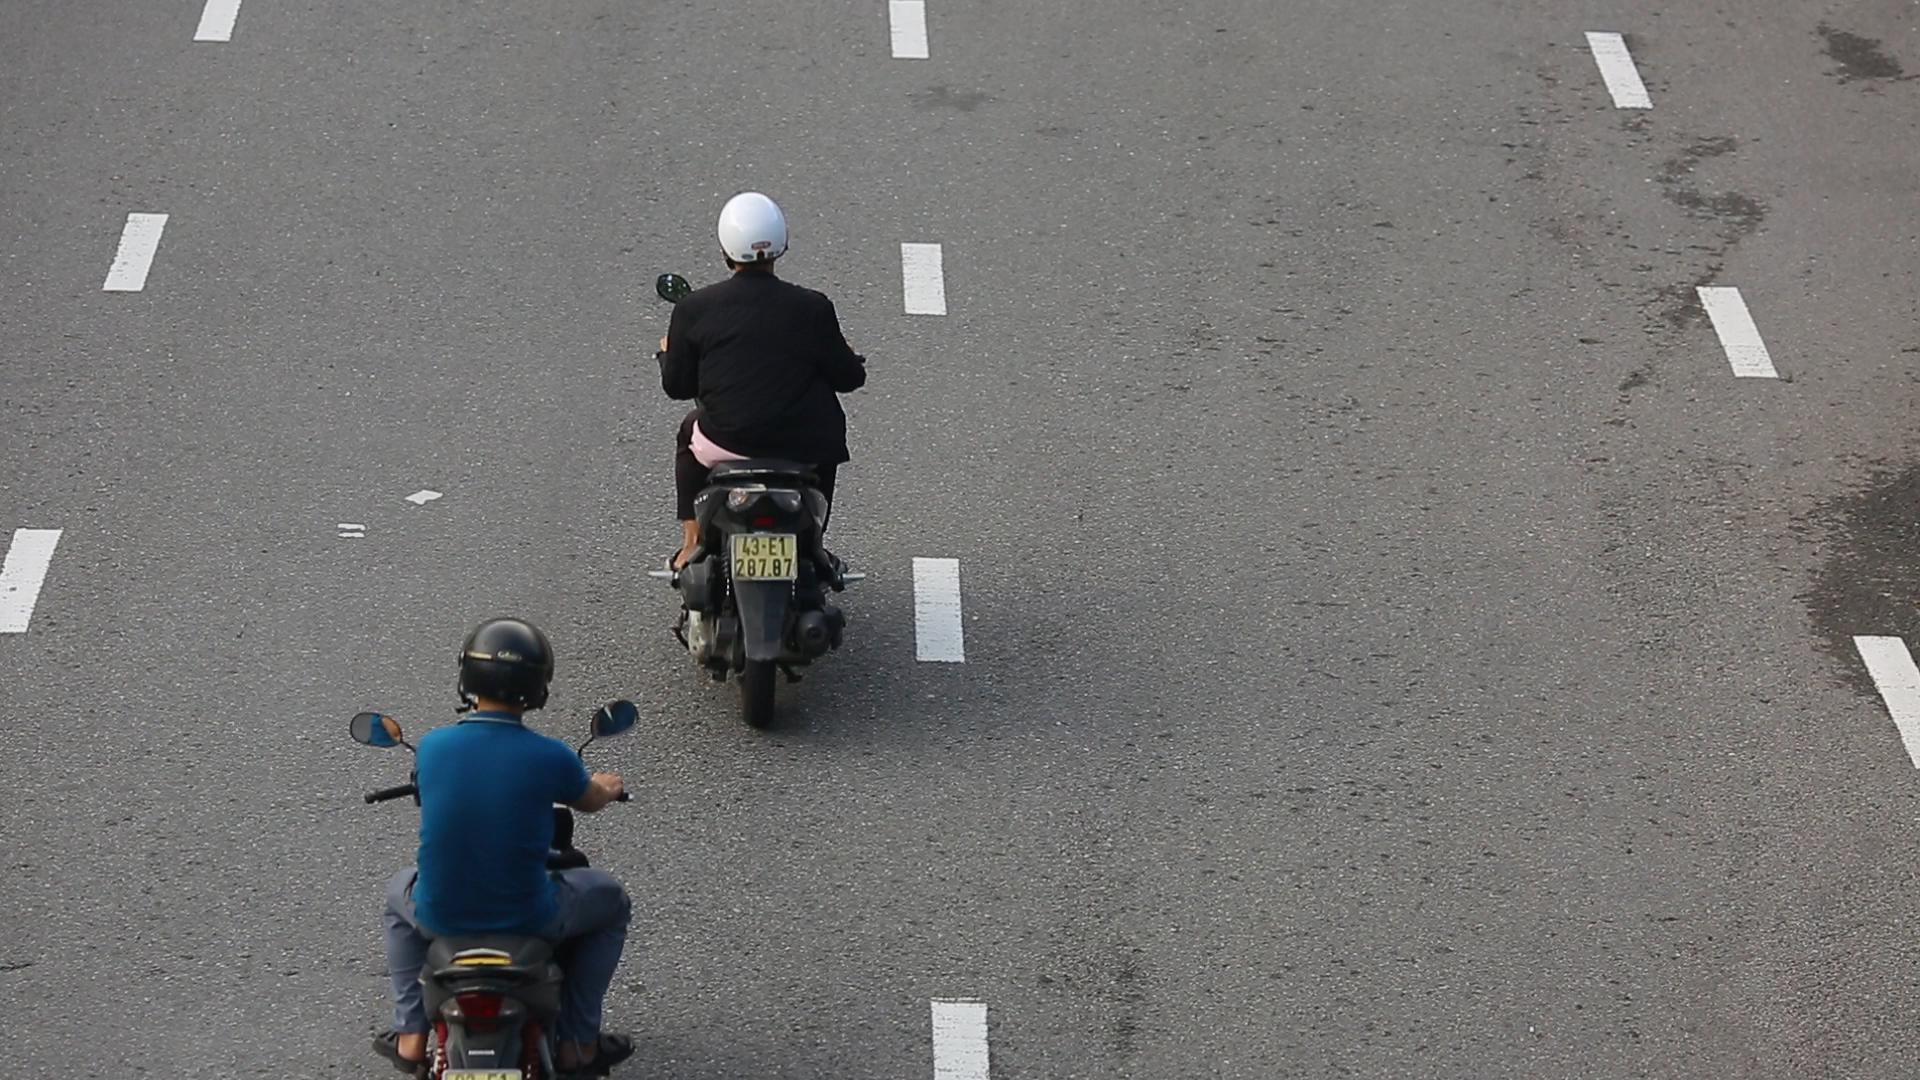motobike: (641, 181, 877, 732)
